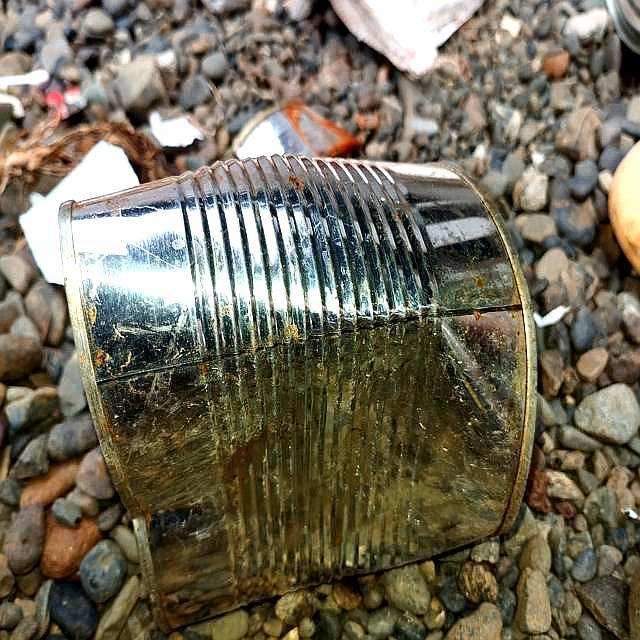Non-biodegradable: (57, 153, 541, 631)
